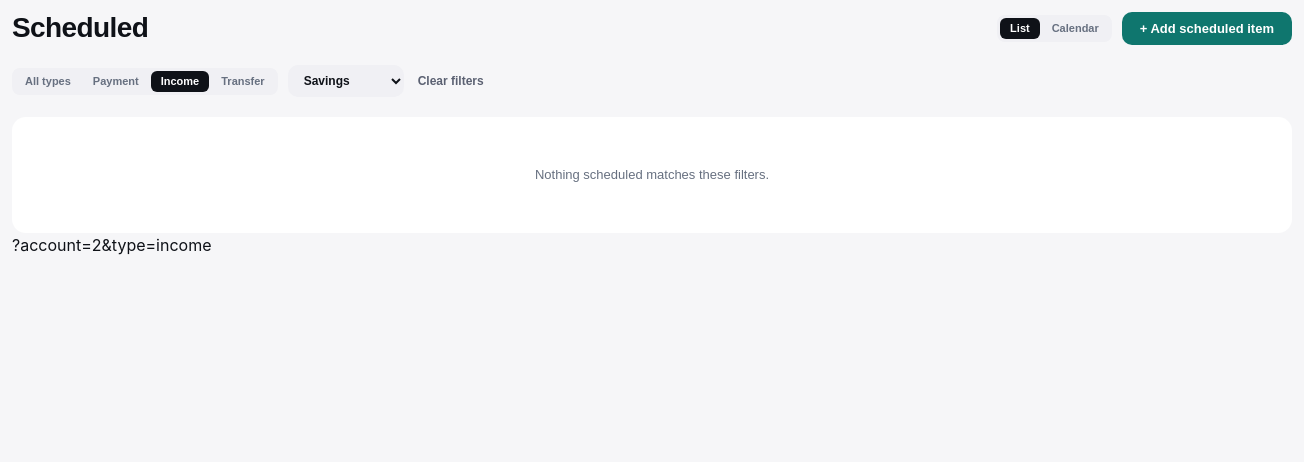
Scheduled screen filters › says when nothing matches, and Clear filters brings everything back
The image size is (1304, 462).
Expected: the text "Nothing scheduled matches these filters." is shown, x1=12 y1=117 x2=1292 y2=232
Click the button "Clear filters".
click(451, 81)  # box x1=414 y1=67 x2=488 y2=95
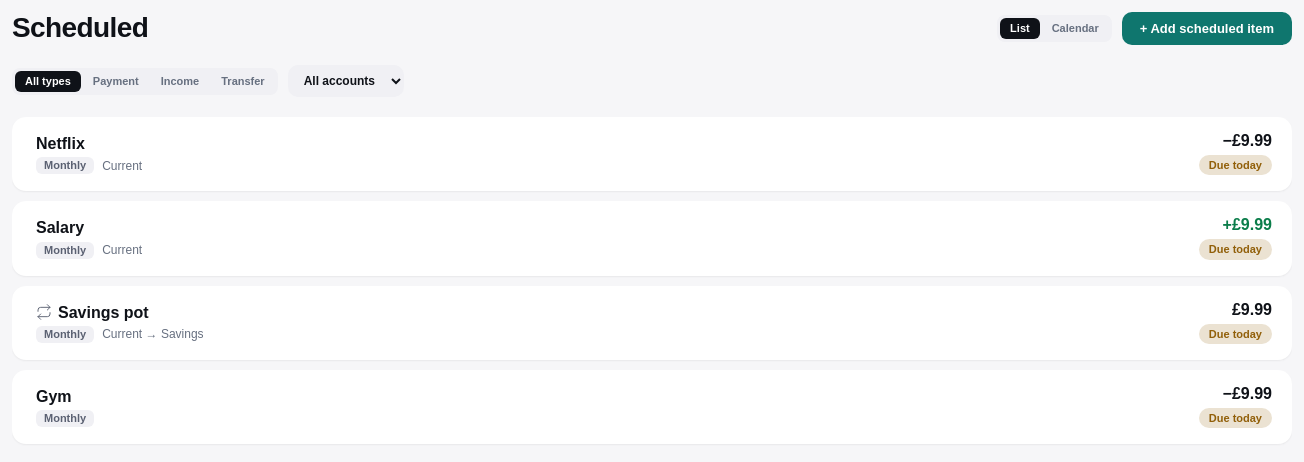
Result: the button "Clear filters" is gone
